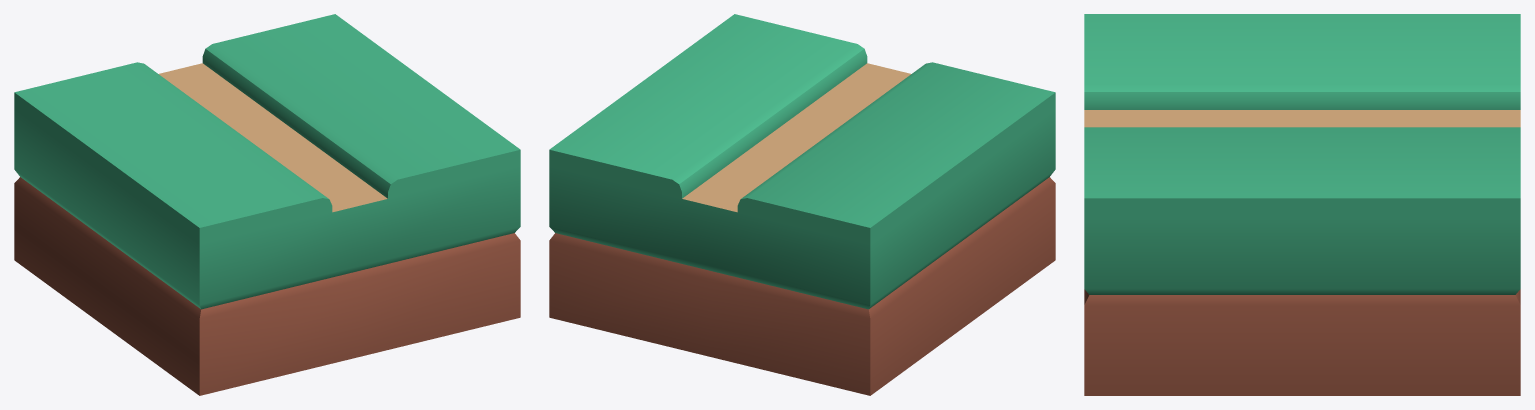
File: square_forest_roadB_detail.glb
The picture shows the model from 3 angles, left to right: view 1: azimuth 30°, elevation 25°; view 2: azimuth 150°, elevation 25°; view 3: azimuth 270°, elevation 25°; orthographic projection. The views are drawn at different scales.
Parts seen in each view (by area): view 1: square_forest_roadB_detail; view 2: square_forest_roadB_detail; view 3: square_forest_roadB_detail.
Boxes of the visible parts, x1,y1,x2,y2 form: square_forest_roadB_detail: (14,14,520,395); square_forest_roadB_detail: (549,14,1055,395); square_forest_roadB_detail: (1084,14,1520,395).
Bounding box in the file's own units: 2 × 1 × 2.
